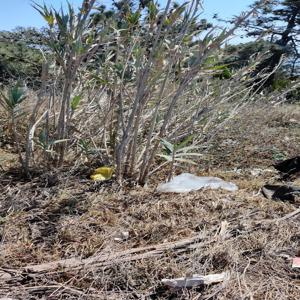plastic: (161, 171, 241, 198), (88, 157, 117, 191)
